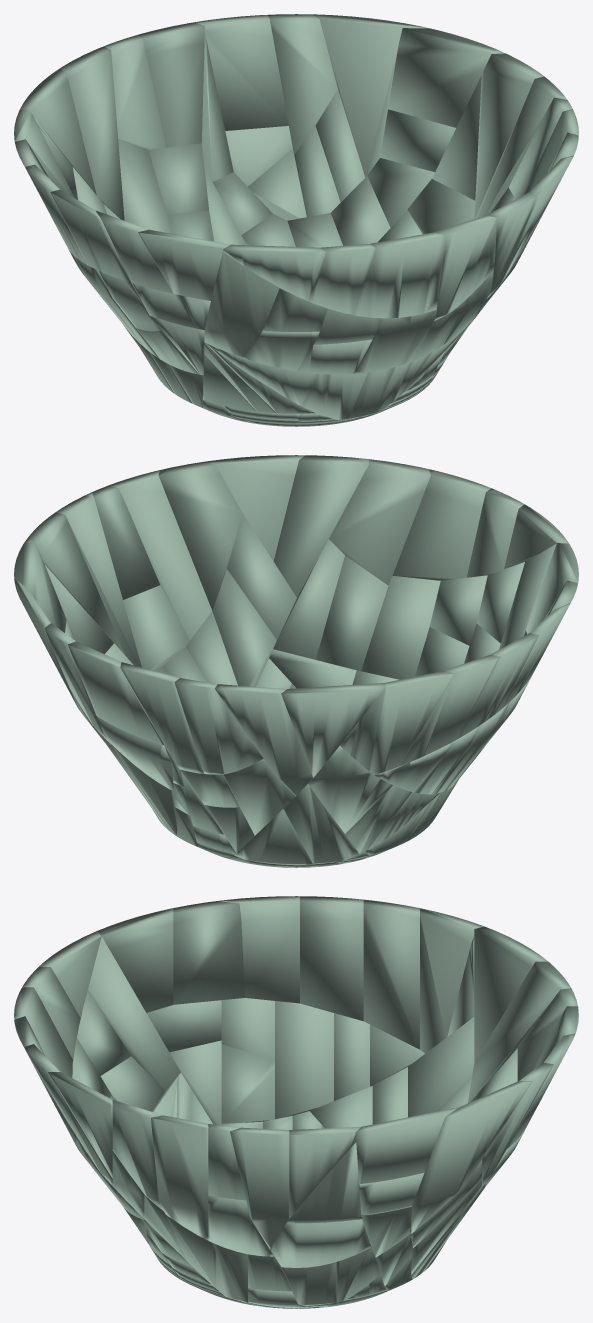
File: collision-hulls.glb
The picture shows the model from 3 angles, top to bottom: view 1: azimuth 30°, elevation 25°; view 2: azimuth 150°, elevation 25°; view 3: azimuth 270°, elevation 25°; orthographic projection.
Visible parts, largest first — view 1: fragment-015-hull-00, fragment-014-hull-00, fragment-002-hull-00, fragment-016-hull-03, fragment-007-hull-00, fragment-015-hull-03, fragment-017-hull-00, fragment-018-hull-01, fragment-008-hull-05, fragment-016-hull-04, fragment-003-hull-00, fragment-010-hull-00 (+55 smaller); view 2: fragment-003-hull-00, fragment-000-hull-01, fragment-007-hull-00, fragment-000-hull-02, fragment-012-hull-00, fragment-009-hull-03, fragment-008-hull-00, fragment-017-hull-01, fragment-017-hull-00, fragment-003-hull-02, fragment-000-hull-00, fragment-016-hull-04 (+45 smaller); view 3: fragment-009-hull-02, fragment-009-hull-01, fragment-010-hull-01, fragment-015-hull-00, fragment-001-hull-04, fragment-009-hull-00, fragment-012-hull-00, fragment-009-hull-03, fragment-010-hull-00, fragment-018-hull-00, fragment-008-hull-05, fragment-017-hull-01 (+49 smaller).
Boxes of the visible parts, x1,y1,x2,y2 form: fragment-015-hull-00: (313, 14, 428, 177); fragment-014-hull-00: (194, 15, 288, 130); fragment-002-hull-00: (388, 28, 505, 127); fragment-016-hull-03: (137, 22, 204, 147); fragment-007-hull-00: (353, 232, 445, 318); fragment-015-hull-03: (268, 14, 337, 154); fragment-017-hull-00: (60, 46, 124, 220); fragment-018-hull-01: (474, 53, 543, 218); fragment-008-hull-05: (204, 252, 279, 357); fragment-016-hull-04: (103, 35, 166, 149); fragment-003-hull-00: (433, 215, 496, 320); fragment-010-hull-00: (138, 229, 230, 300); fragment-003-hull-00: (329, 459, 430, 585); fragment-000-hull-01: (273, 455, 368, 597); fragment-007-hull-00: (392, 469, 491, 580); fragment-000-hull-02: (158, 462, 242, 610); fragment-012-hull-00: (108, 470, 212, 640); fragment-009-hull-03: (350, 670, 454, 774); fragment-008-hull-00: (361, 576, 440, 679); fragment-017-hull-01: (281, 683, 384, 777); fragment-017-hull-00: (215, 684, 313, 795); fragment-003-hull-02: (316, 555, 388, 670); fragment-000-hull-00: (203, 455, 304, 560); fragment-016-hull-04: (174, 678, 263, 774); fragment-009-hull-02: (363, 899, 419, 1049); fragment-009-hull-01: (300, 896, 363, 1021); fragment-010-hull-01: (173, 901, 244, 1004); fragment-015-hull-00: (411, 1081, 532, 1233); fragment-001-hull-04: (275, 1001, 333, 1119); fragment-009-hull-00: (218, 896, 299, 1003); fragment-012-hull-00: (151, 1115, 208, 1240); fragment-009-hull-03: (420, 908, 483, 1053); fragment-010-hull-00: (97, 908, 173, 1012); fragment-018-hull-00: (230, 1127, 289, 1248); fragment-008-hull-05: (88, 936, 180, 1090); fragment-017-hull-01: (474, 926, 547, 1061).
Bounding box in the file's own units: 0.15 × 0.071 × 0.15.
